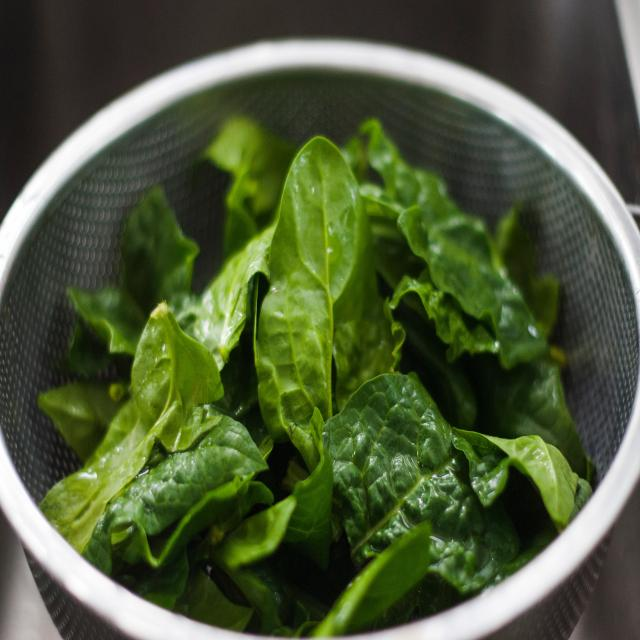spinach: (258, 141, 382, 385), (322, 370, 472, 527)
